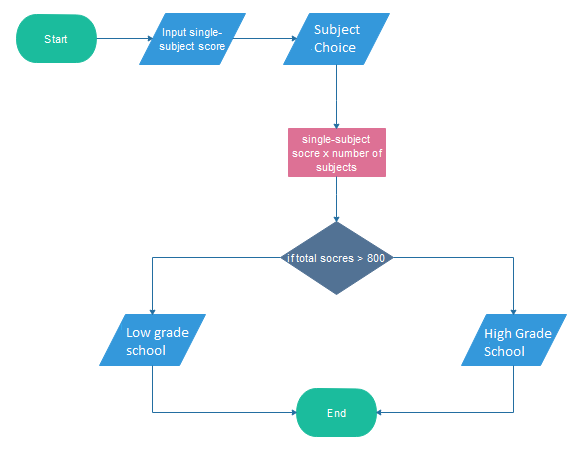arrow: (147, 255, 282, 312), (149, 366, 299, 417), (391, 255, 516, 315), (377, 364, 517, 416), (232, 34, 297, 45), (96, 34, 154, 44), (333, 65, 340, 128), (332, 177, 340, 223)
data: (98, 312, 208, 368), (282, 12, 391, 68), (458, 311, 567, 367), (137, 11, 247, 66)
decision: (280, 221, 392, 294)
process: (286, 126, 388, 179)
terminator: (296, 386, 378, 440), (16, 12, 98, 65)
text: (291, 132, 386, 174), (122, 323, 190, 358), (481, 323, 552, 356), (158, 26, 226, 55), (284, 249, 388, 265), (311, 23, 361, 54), (40, 33, 71, 46), (322, 406, 349, 419)
